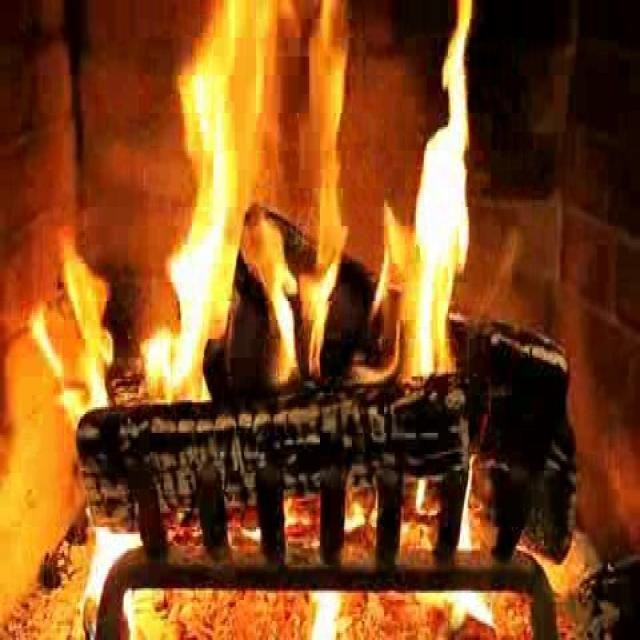Fire: (167, 12, 477, 412)
